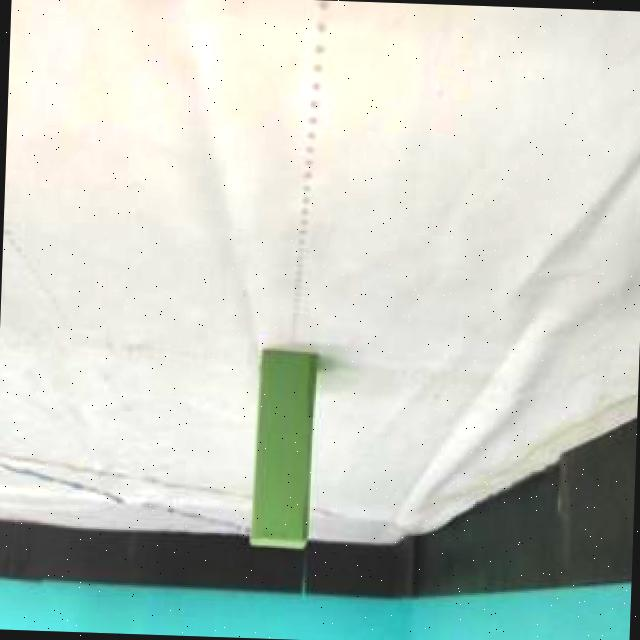greenbox: (245, 346, 318, 554)
